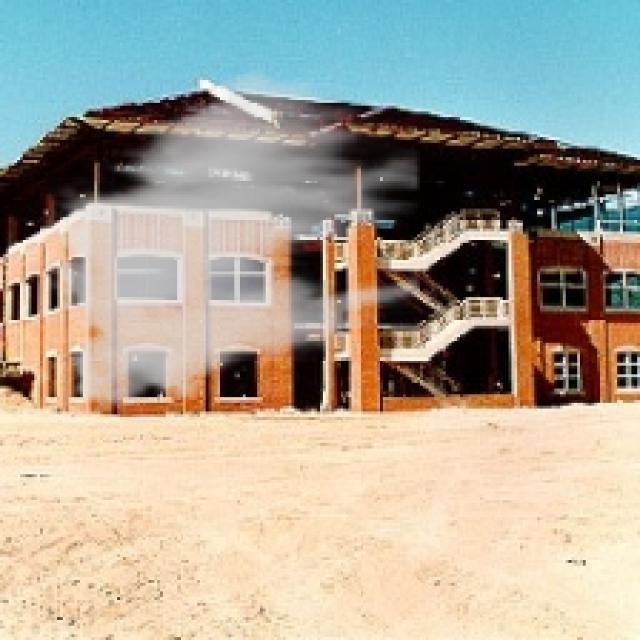smoke: (40, 60, 420, 426)
